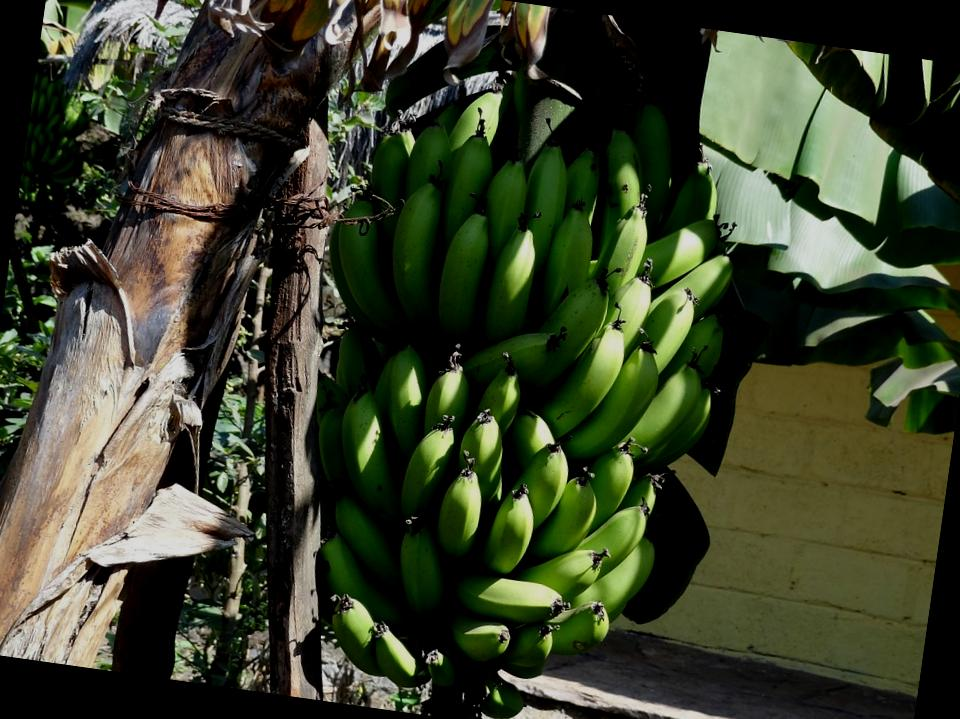Banana Unripe: (255, 66, 763, 719)
